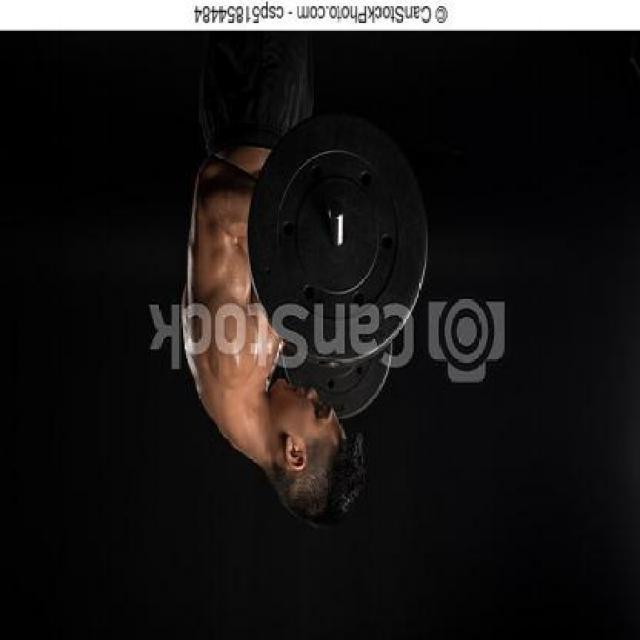Barbell: (309, 190, 357, 261)
